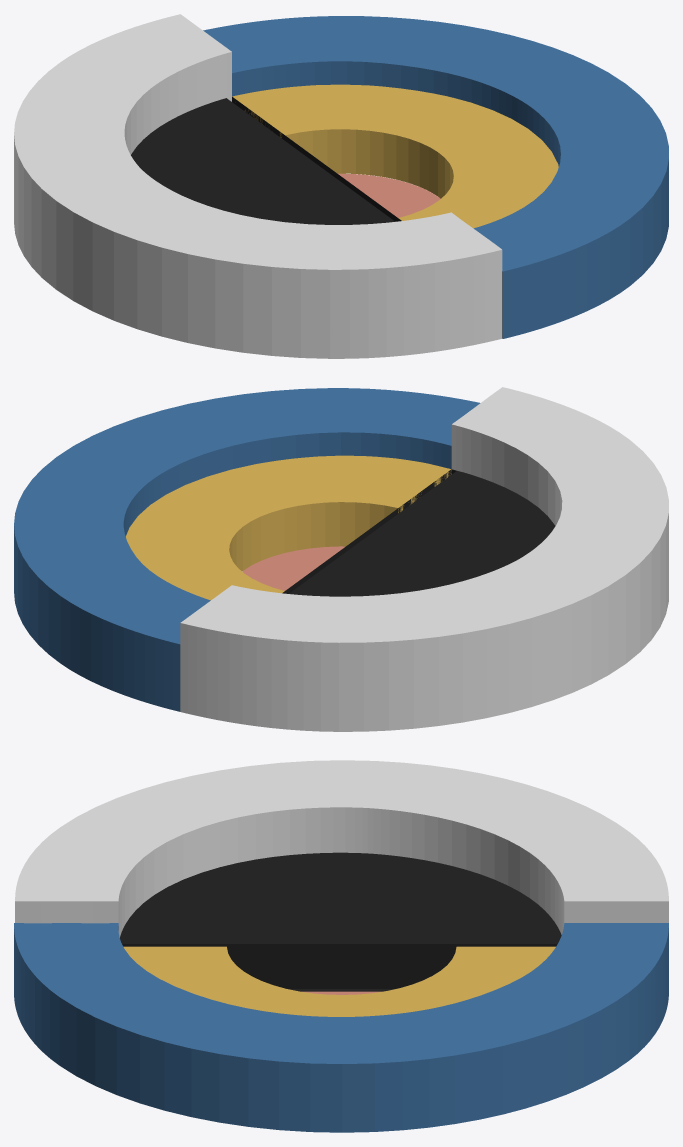
File: hilma-swan.glb
The picture shows the model from 3 angles, top to bottom: view 1: azimuth 30°, elevation 25°; view 2: azimuth 150°, elevation 25°; view 3: azimuth 270°, elevation 25°; orthographic projection.
Parts seen in each view (by area): view 1: Curve, Curve.002, Curve.003, Curve.001, Curve.008; view 2: Curve, Curve.002, Curve.003, Curve.001, Curve.008; view 3: Curve.002, Curve, Curve.001, Curve.003.
Boxes of the visible parts, x1,y1,x2,y2 form: Curve: [14, 14, 502, 358]; Curve.002: [203, 16, 668, 338]; Curve.003: [232, 84, 558, 228]; Curve.001: [131, 96, 401, 224]; Curve.008: [338, 173, 440, 217]; Curve: [180, 387, 668, 731]; Curve.002: [14, 388, 480, 711]; Curve.003: [126, 455, 451, 600]; Curve.001: [282, 469, 555, 596]; Curve.008: [242, 546, 344, 590]; Curve.002: [14, 923, 668, 1132]; Curve: [15, 760, 668, 937]; Curve.001: [120, 852, 561, 991]; Curve.003: [123, 946, 555, 1016].
Bounding box in the file's own units: 0.1674 × 0.025 × 0.1642.
